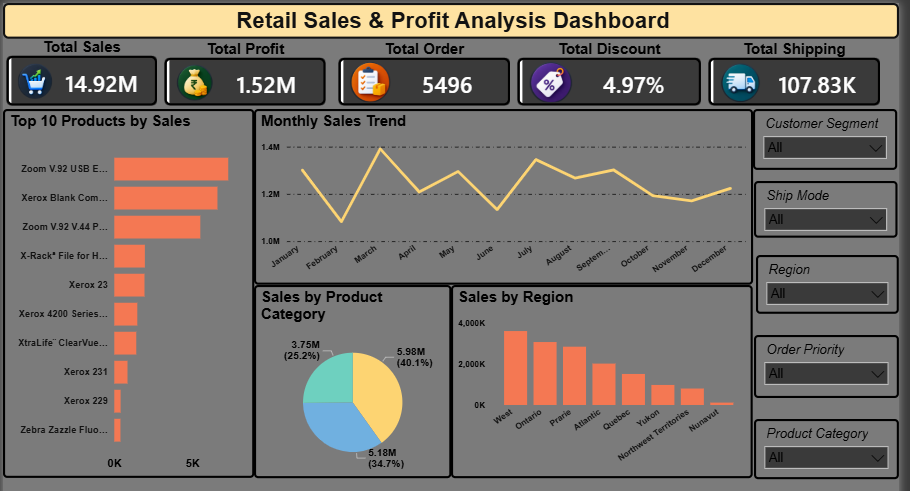

The dashboard page shown, as its layout file describes it:
{"tool":"powerbi","page":{"name":"Page 1","canvas":[1280,720],"ordinal":0},"visuals":[{"type":"cardVisual","title":"Total Sales","fields":{"Data":["Sum(Clean Data.Sales)"]},"box":[0,51,225.4,100.6],"z":0},{"type":"cardVisual","title":"Total Profit","fields":{"Data":["Sum(Clean Data.Profit)"]},"box":[225.4,53.9,241,97.8],"z":1000},{"type":"clusteredColumnChart","title":"Sales by Region","fields":{"Category":["Clean Data.Region"],"Y":["Sum(Clean Data.Sales)"]},"box":[640.7,402.6,430.9,276.4],"z":2000},{"type":"pieChart","title":"Sales by Product Category","fields":{"Category":["Clean Data.Product Category"],"Y":["Sum(Clean Data.Sales)"]},"box":[358.6,402.6,282.1,276.4],"z":3000},{"type":"clusteredBarChart","title":"Top 10 Products by Sales","fields":{"Category":["Clean Data.Product Name"],"Y":["Sum(Clean Data.Sales)"]},"box":[0,151.7,358.6,527.3],"z":4000},{"type":"lineChart","title":"Monthly Sales Trend","fields":{"Y":["Sum(Clean Data.Sales)"],"Category":["Clean Data.Order Date.Variation.Date Hierarchy.Month"]},"box":[358.6,151.7,713,250.9],"z":5000},{"type":"slicer","title":"Profit by Customer Segment","fields":{"Values":["Clean Data.Region"]},"box":[1075.9,360,204.3,84.3],"z":6000},{"type":"slicer","fields":{"Values":["Clean Data.Product Category"]},"box":[1073,593.9,207.1,85.7],"z":7000},{"type":"slicer","fields":{"Values":["Clean Data.Customer Segment"]},"box":[1071.6,151.7,205.7,87.1],"z":8000},{"type":"slicer","fields":{"Values":["Clean Data.Order Priority"]},"box":[1073,474.9,207.1,90],"z":9000},{"type":"slicer","fields":{"Values":["Clean Data.Ship Mode"]},"box":[1073,253.7,204.9,80.6],"z":10000},{"type":"textbox","title":"Retail Sales & Profit Analysis Dashboard","box":[0,0,1280,51],"z":11000},{"type":"cardVisual","title":"Total Order","fields":{"Data":["Count(Clean Data.Order ID)"]},"box":[474.9,53.9,255.1,97.8],"z":12000},{"type":"cardVisual","title":"Total Discount","fields":{"Data":["Clean Data.Average Discount %"]},"box":[730,53.9,272.2,97.8],"z":13000},{"type":"cardVisual","title":"Total Shipping","fields":{"Data":["Sum(Clean Data.Shipping Cost)"]},"box":[1002.2,53.9,255.1,97.8],"z":14000}]}

Visuals, with their boxes in screenshot pixels (x1, y1, x2, y2):
"Total Sales" cardVisual: x1=2, y1=36, x2=159, y2=106
"Total Profit" cardVisual: x1=159, y1=38, x2=327, y2=106
"Sales by Region" clusteredColumnChart: x1=449, y1=280, x2=749, y2=473
"Sales by Product Category" pieChart: x1=252, y1=280, x2=449, y2=473
"Top 10 Products by Sales" clusteredBarChart: x1=2, y1=106, x2=252, y2=473
"Monthly Sales Trend" lineChart: x1=252, y1=106, x2=749, y2=280
"Profit by Customer Segment" slicer: x1=752, y1=251, x2=894, y2=309
slicer - Clean Data.Product Category: x1=750, y1=414, x2=894, y2=473
slicer - Clean Data.Customer Segment: x1=749, y1=106, x2=892, y2=166
slicer - Clean Data.Order Priority: x1=750, y1=331, x2=894, y2=394
slicer - Clean Data.Ship Mode: x1=750, y1=177, x2=893, y2=233
"Retail Sales & Profit Analysis Dashboard" textbox: x1=2, y1=0, x2=894, y2=36
"Total Order" cardVisual: x1=333, y1=38, x2=511, y2=106
"Total Discount" cardVisual: x1=511, y1=38, x2=700, y2=106
"Total Shipping" cardVisual: x1=700, y1=38, x2=878, y2=106
